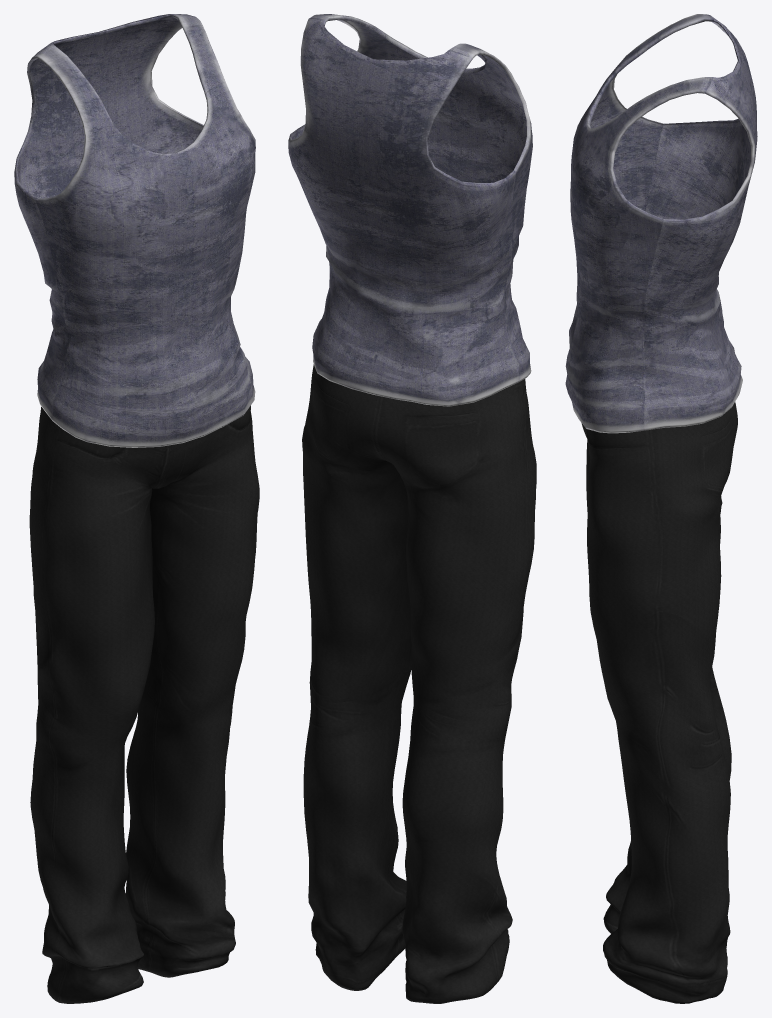
The model's file is manSuit4.obj.
3 renders of one model, left to right at view 1: azimuth 30°, elevation 25°; view 2: azimuth 150°, elevation 25°; view 3: azimuth 270°, elevation 25°, orthographic. The views are drawn at different scales.
Visible parts, largest first — view 1: Jeans, Tank top; view 2: Jeans, Tank top; view 3: Jeans, Tank top.
Boxes of the visible parts, x1,y1,x2,y2 form: Jeans: (29, 405, 259, 1003); Tank top: (14, 14, 255, 447); Jeans: (302, 364, 536, 1003); Tank top: (288, 14, 532, 406); Jeans: (581, 402, 737, 1003); Tank top: (565, 14, 757, 433).
Size of the model in its own units: 35.21 by 152 by 28.48.
